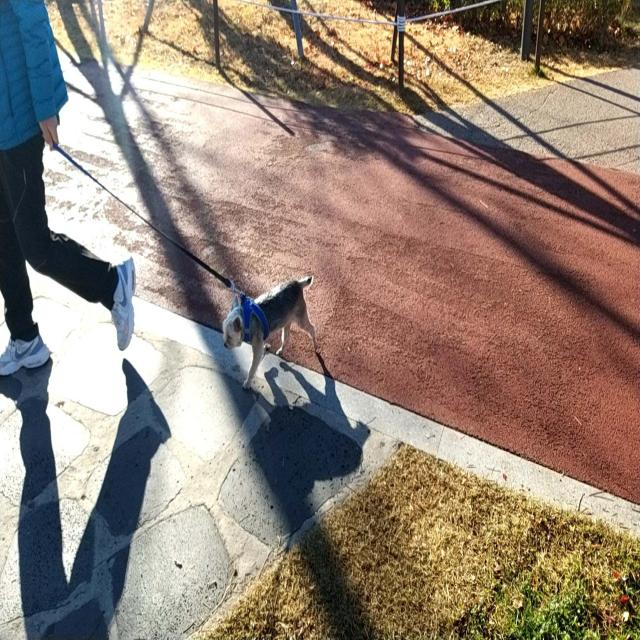Leashed_Dog: (0, 143, 318, 389)
